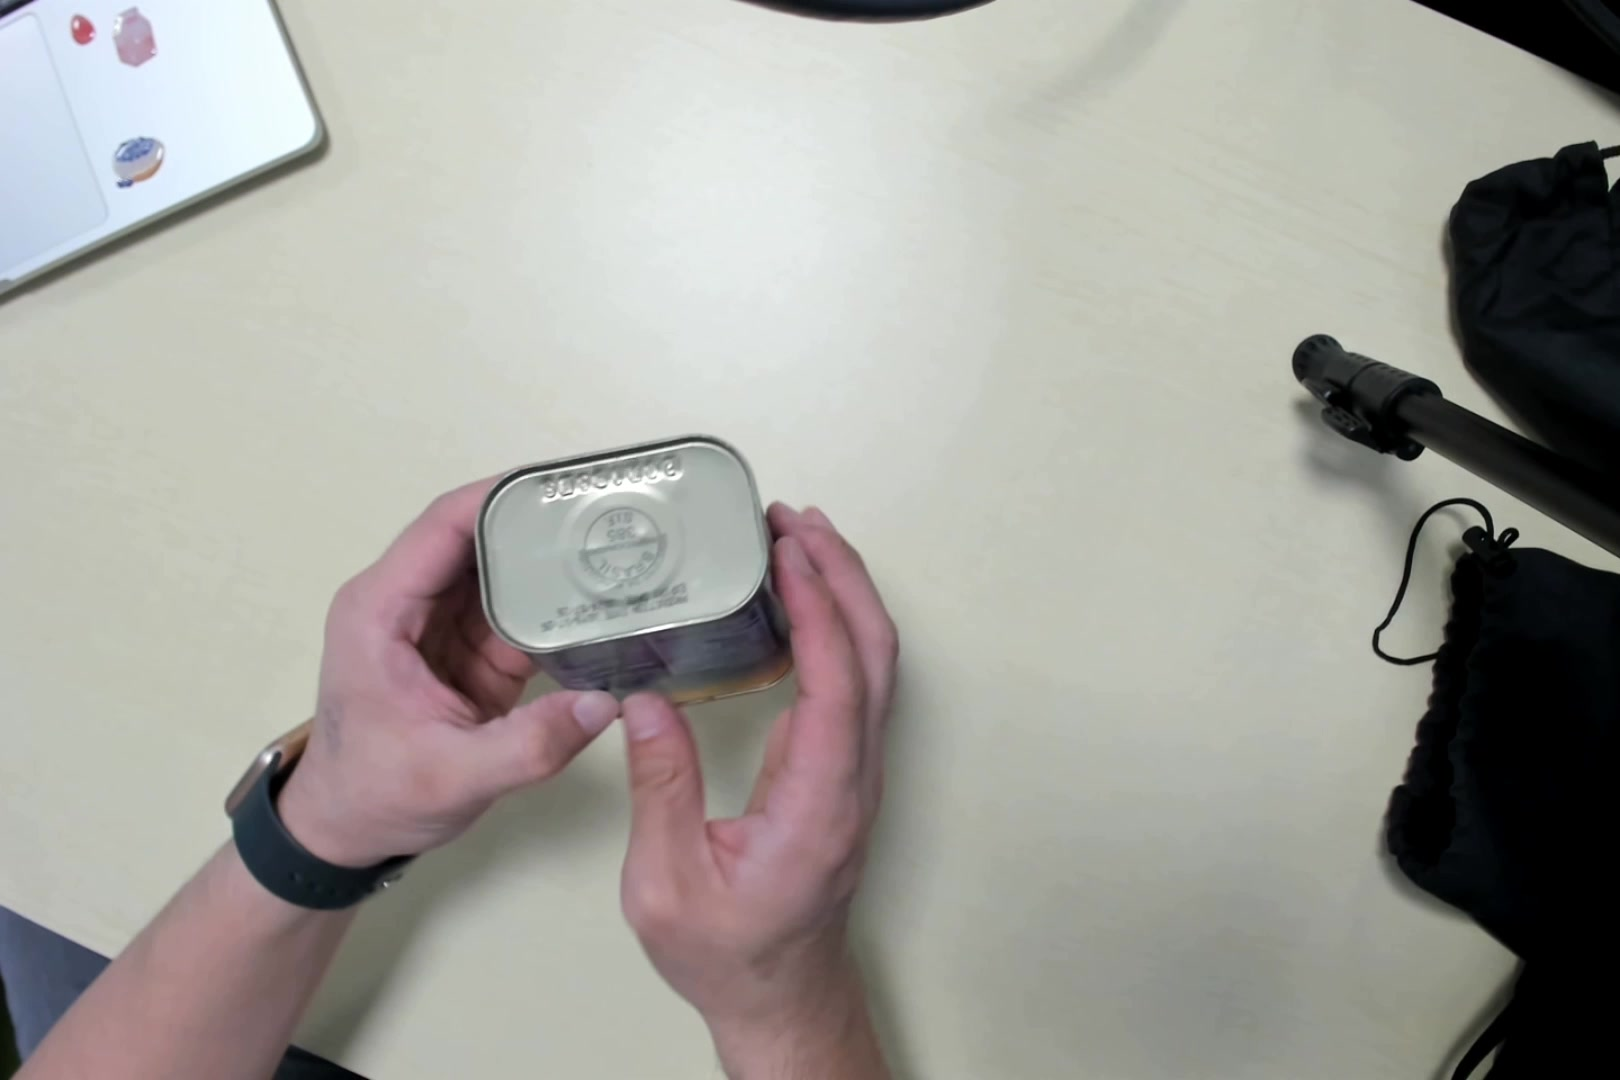CannedBeefOtherMeats_300-399g_Halal_NonHealthy: (485, 450, 794, 718)
